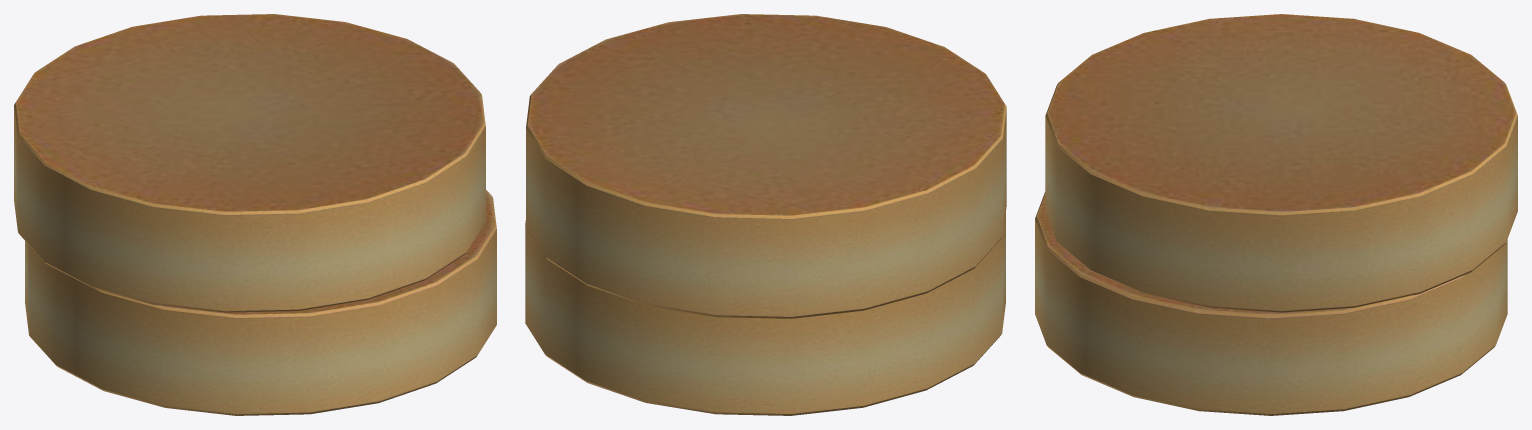
The model's file is cookedSponges.glb.
3 renders of one model, left to right at view 1: azimuth 30°, elevation 25°; view 2: azimuth 150°, elevation 25°; view 3: azimuth 270°, elevation 25°, orthographic. The views are drawn at different scales.
Parts seen in each view (by area): view 1: JamCakeBottomLayer.001; view 2: JamCakeBottomLayer.001; view 3: JamCakeBottomLayer.001.
Boxes of the visible parts, x1,y1,x2,y2 form: JamCakeBottomLayer.001: (14,14,496,415); JamCakeBottomLayer.001: (525,14,1006,415); JamCakeBottomLayer.001: (1035,14,1517,415).
Bounding box in the file's own units: 0.2693 × 0.1246 × 0.2713.
Materials: 1 (1 with a texture image).
